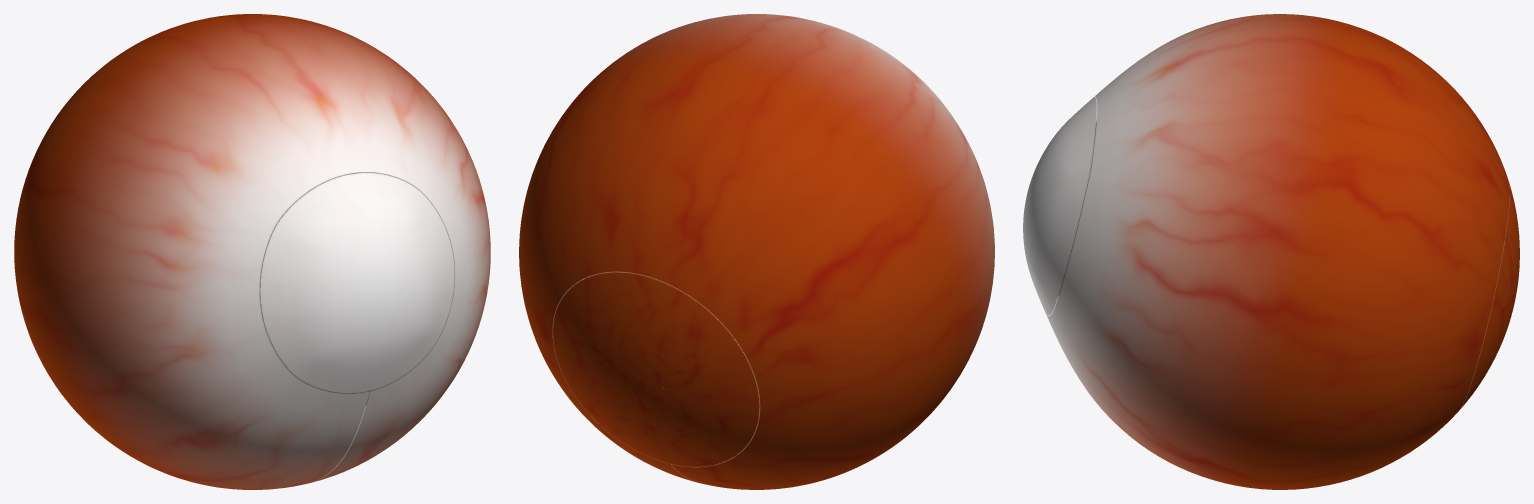
The model's file is eye.glb.
The picture shows the model from 3 angles, left to right: view 1: azimuth 30°, elevation 25°; view 2: azimuth 150°, elevation 25°; view 3: azimuth 270°, elevation 25°; orthographic projection.
Visible parts, largest first — view 1: Eye_0; view 2: Eye_0; view 3: Eye_0.
Boxes of the visible parts, x1,y1,x2,y2 form: Eye_0: (14,14,490,489); Eye_0: (519,14,994,489); Eye_0: (1023,14,1519,489).
Bounding box in the file's own units: 1.95 × 1.95 × 2.04.
2 materials, 2 textured.
